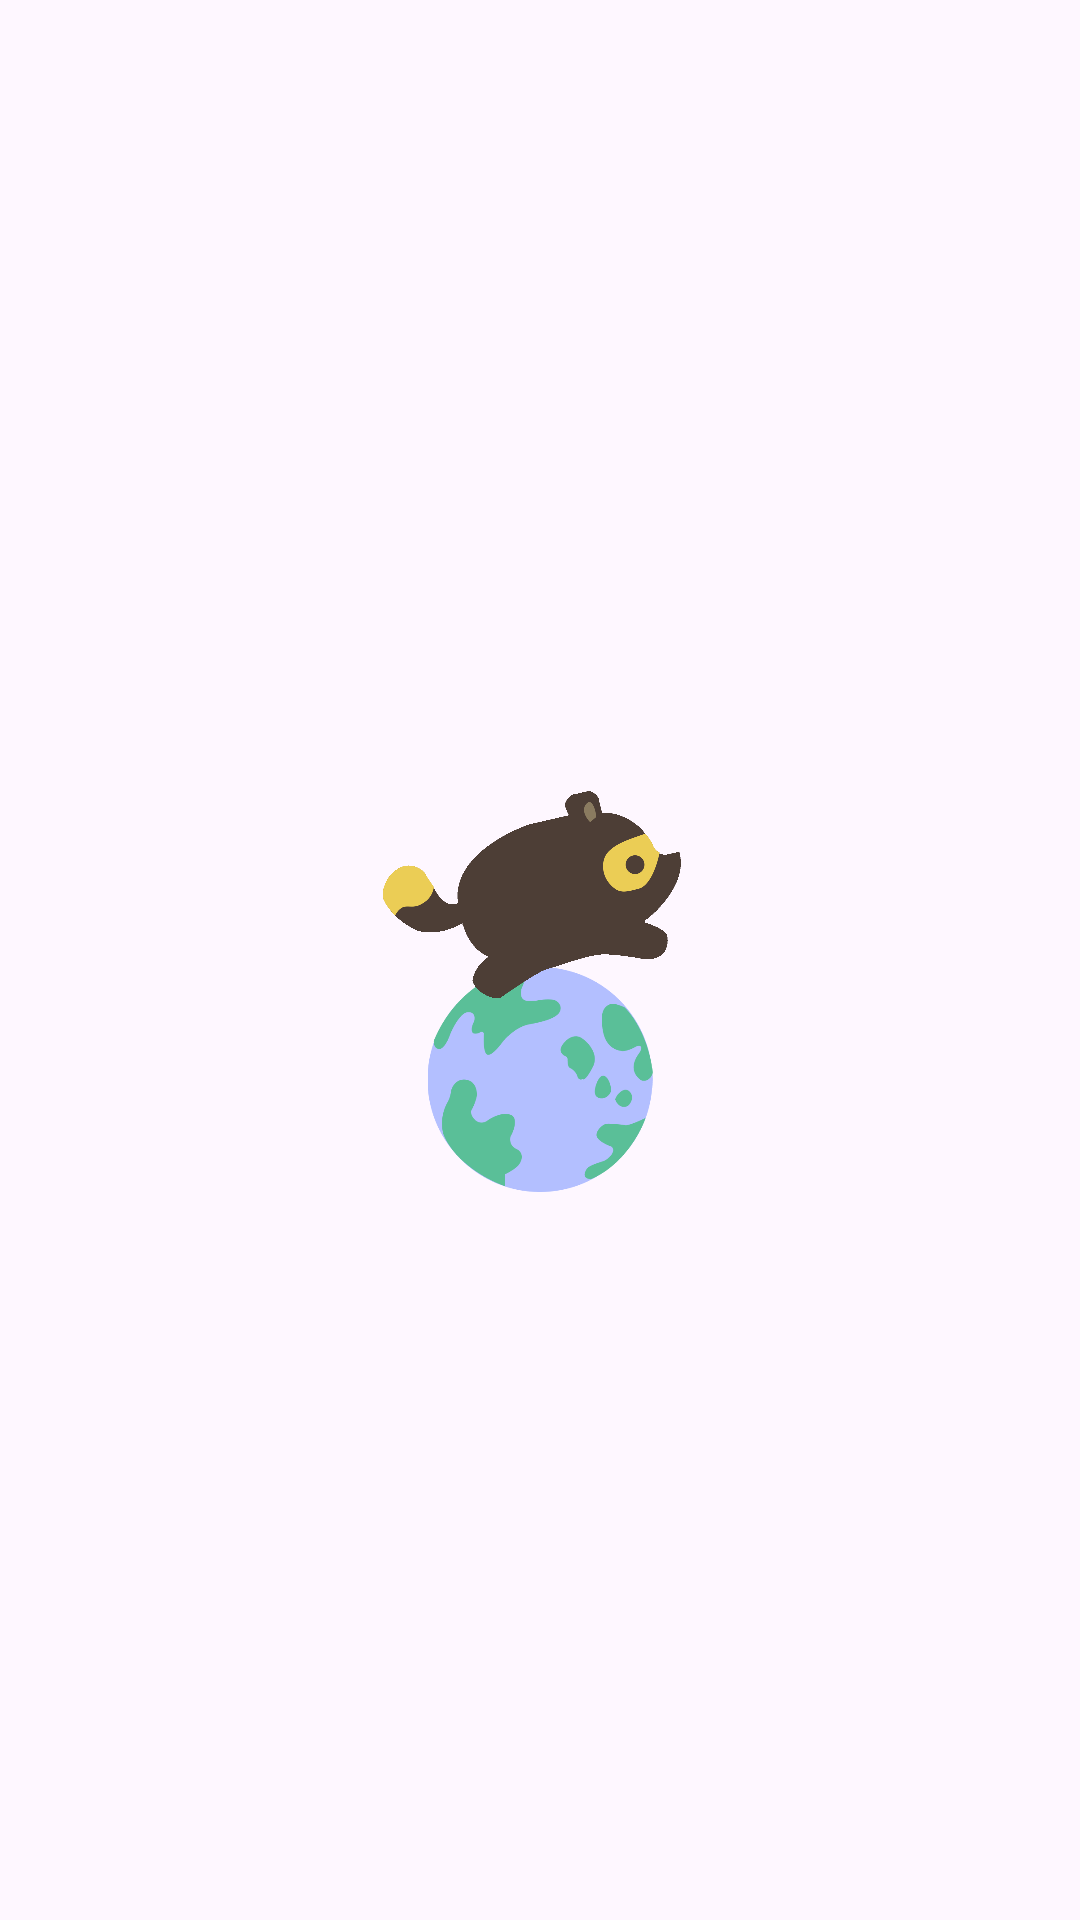

Icons on this 1080x1920 Android screen, each with the point to tap as [x,y]:
earth: [540,1079]
